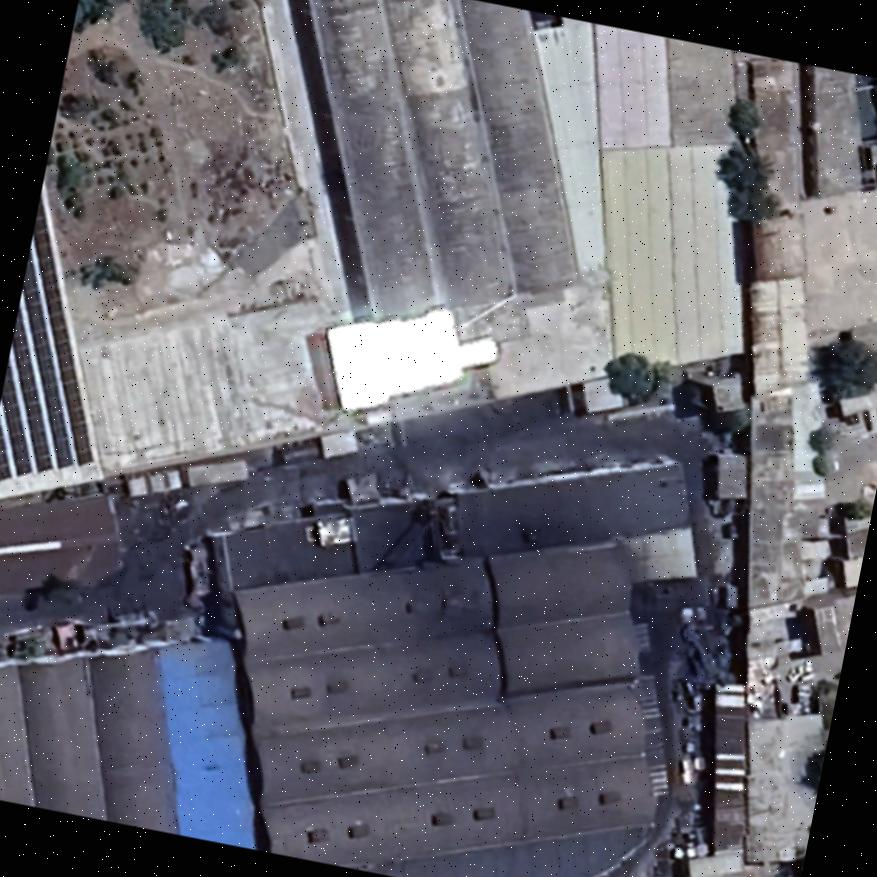Solarpanel: (0, 186, 96, 487)
